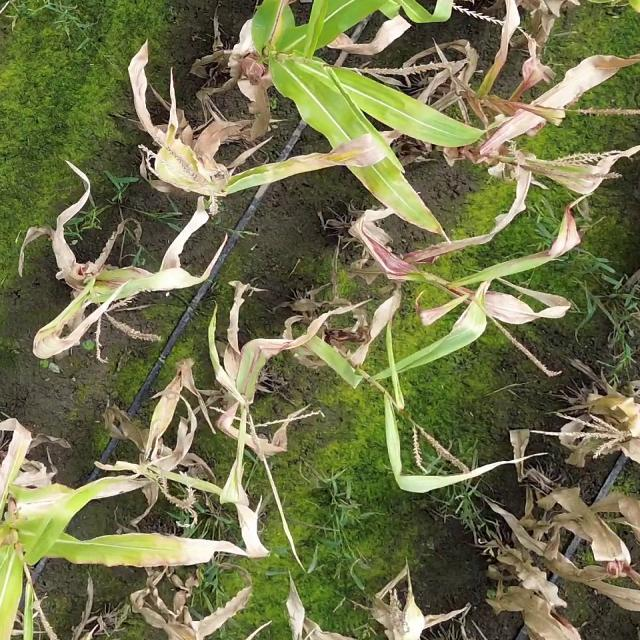northern-leaf-blight: (42, 511, 257, 590), (252, 129, 392, 208), (462, 214, 585, 288), (396, 293, 492, 387)
